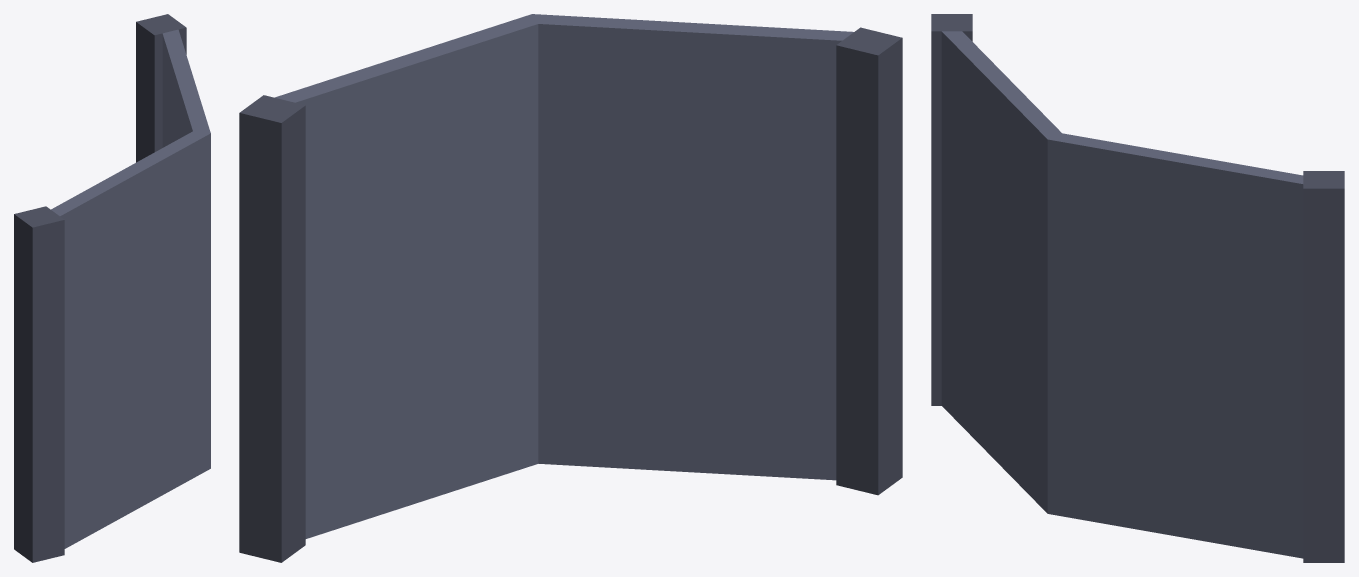
The model's file is wall-wood-corner-edge.glb.
The picture shows the model from 3 angles, left to right: view 1: azimuth 30°, elevation 25°; view 2: azimuth 150°, elevation 25°; view 3: azimuth 270°, elevation 25°; orthographic projection. The views are drawn at different scales.
Parts seen in each view (by area): view 1: wall-wood-corner-edge; view 2: wall-wood-corner-edge; view 3: wall-wood-corner-edge.
Part boxes in pixels (x1,y1,x2,y2): wall-wood-corner-edge: (14,14,210,562); wall-wood-corner-edge: (239,14,902,562); wall-wood-corner-edge: (931,14,1344,562).
Size of the model in its own units: 1 by 1 by 1.
Materials: 1 (1 with a texture image).
